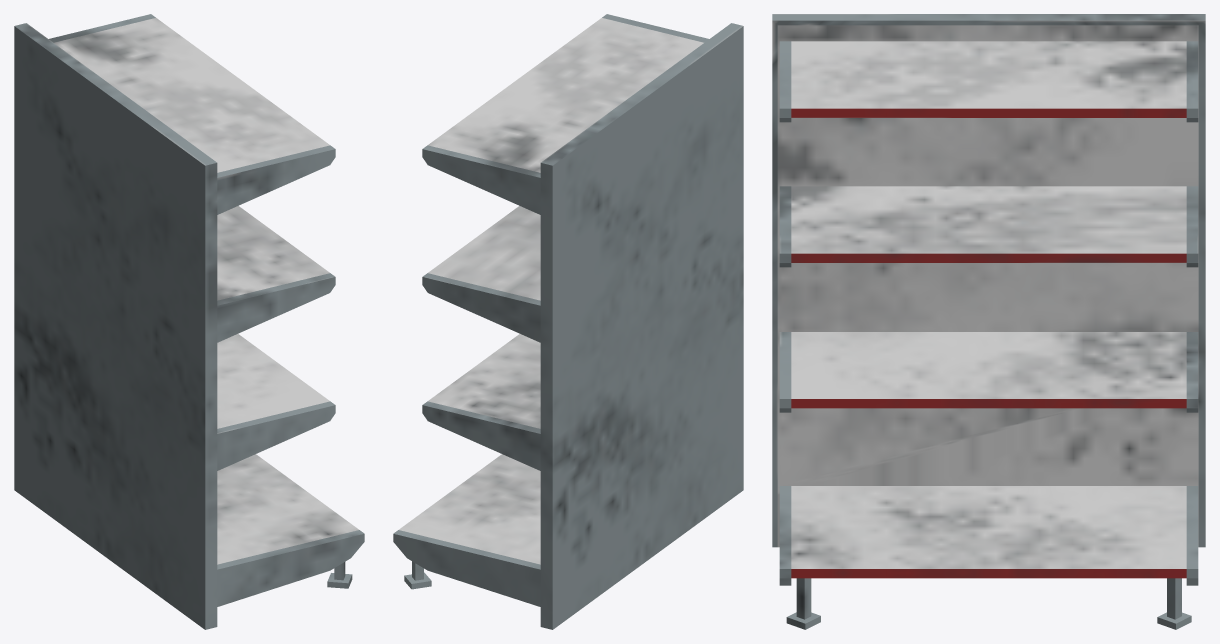
File: shop shelf.fbx
3 views of the same model, side by side, from view 1: azimuth 30°, elevation 25°; view 2: azimuth 150°, elevation 25°; view 3: azimuth 270°, elevation 25° (orthographic). The views are drawn at different scales.
Visible parts, largest first — view 1: Shop shelf; view 2: Shop shelf; view 3: Shop shelf.
Part boxes in pixels (x1,y1,x2,y2): Shop shelf: [14, 14, 364, 629]; Shop shelf: [393, 14, 743, 629]; Shop shelf: [772, 14, 1205, 629].
Size of the model in its own units: 73.82 by 201 by 150.
1 material, 1 textured.
